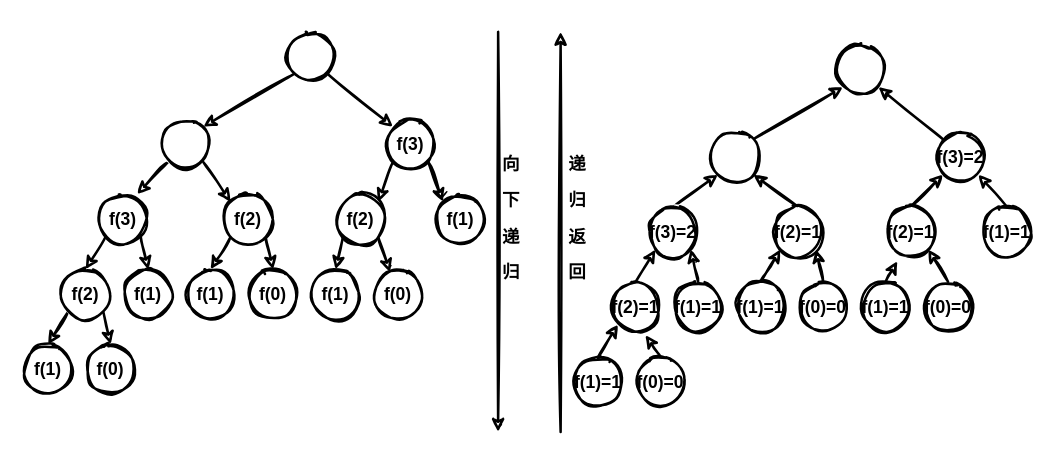
Some shapes in this 1054 by 464 pixel diagram are drawn without their labels. Here are the shapes that lost their labels. From the top down, the box of each, then its label:
(284, 30, 336, 82): f(5)
(834, 42, 886, 95): f(5)=5
(159, 118, 211, 170): f(4)
(709, 130, 761, 182): f(4)=3
